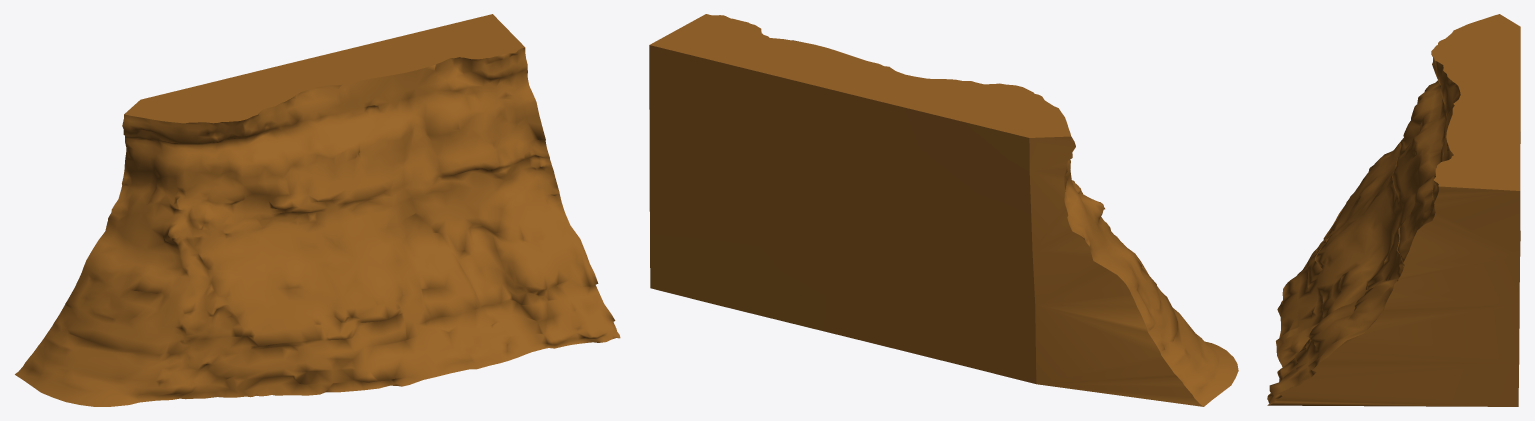
File: MSH_Rocks_Cliff_05_b.FBX
3 renders of one model, left to right at view 1: azimuth 30°, elevation 25°; view 2: azimuth 150°, elevation 25°; view 3: azimuth 270°, elevation 25°, orthographic. The views are drawn at different scales.
Parts seen in each view (by area): view 1: MESH_LOD0, CAP_LOD0; view 2: CAP_LOD0, MESH_LOD0; view 3: CAP_LOD0, MESH_LOD0.
Boxes of the visible parts, <box> form: MESH_LOD0: <box>15,48,620,406</box>; CAP_LOD0: <box>68,14,558,298</box>; CAP_LOD0: <box>649,14,1203,406</box>; MESH_LOD0: <box>792,40,1238,406</box>; CAP_LOD0: <box>1268,14,1520,406</box>; MESH_LOD0: <box>1267,56,1460,405</box>.
Size of what is drawn, in the model's own units: 1519 by 666 by 704.
